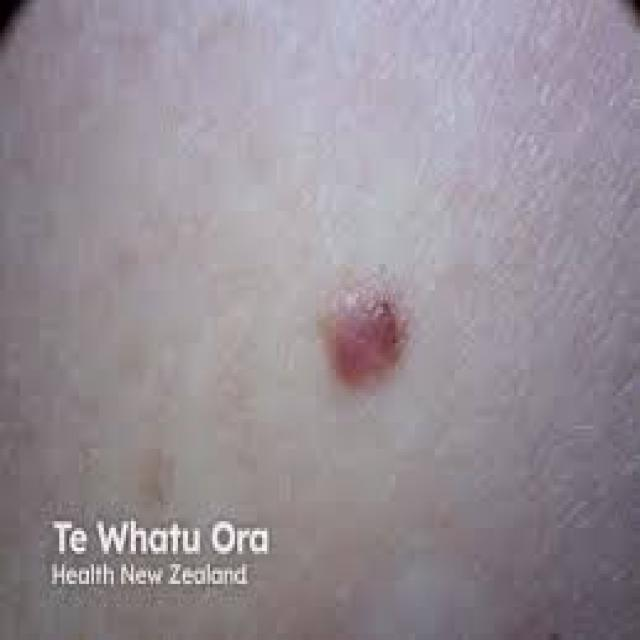Eczema: (333, 299, 409, 393)
